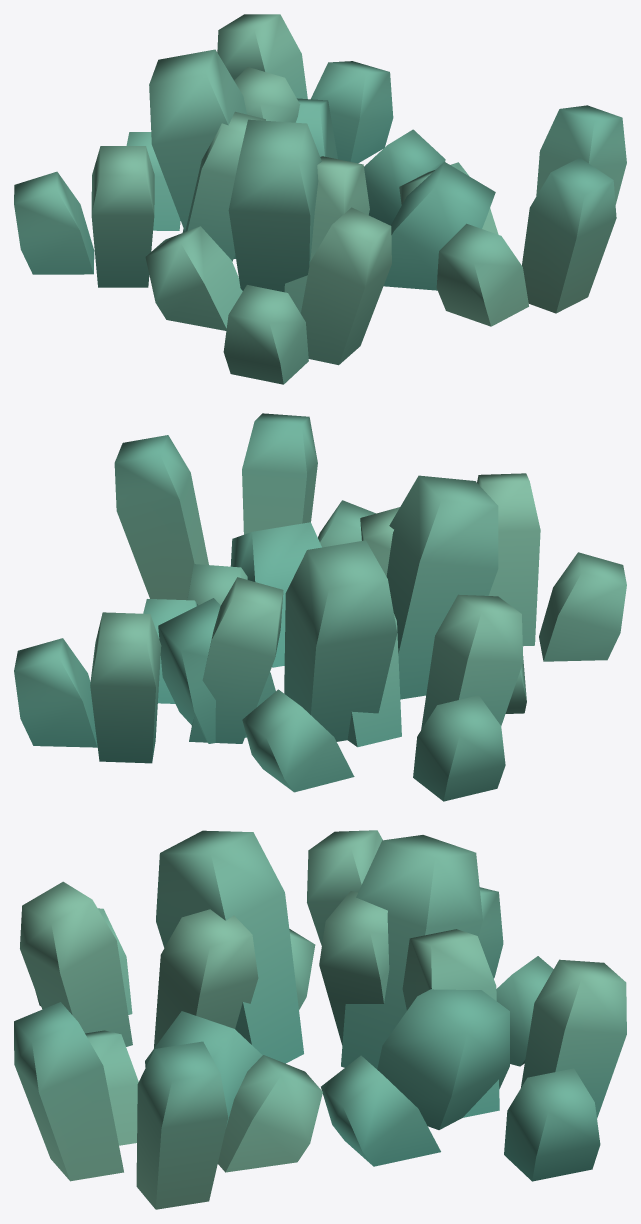
Rendered from grass-patch.glb.
The picture shows the model from 3 angles, top to bottom: view 1: azimuth 30°, elevation 25°; view 2: azimuth 150°, elevation 25°; view 3: azimuth 270°, elevation 25°; orthographic projection. The views are drawn at different scales.
Parts seen in each view (by area): view 1: grass-patch; view 2: grass-patch; view 3: grass-patch.
Boxes of the visible parts, bbox=[...] form: grass-patch: bbox=[14, 14, 626, 384]; grass-patch: bbox=[14, 413, 626, 801]; grass-patch: bbox=[14, 830, 626, 1209].
Bounding box in the file's own units: 1.31 × 0.4709 × 1.27.
